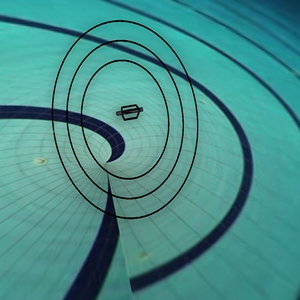circle: (43, 9, 226, 236)
submarine: (110, 93, 148, 125)
